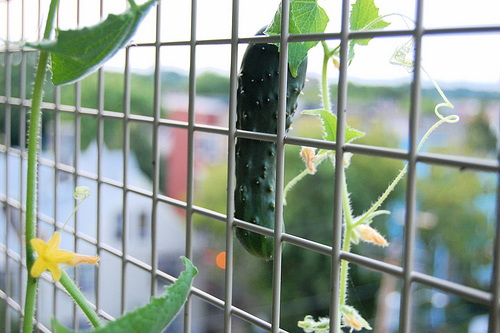cucumber: (233, 25, 309, 261)
